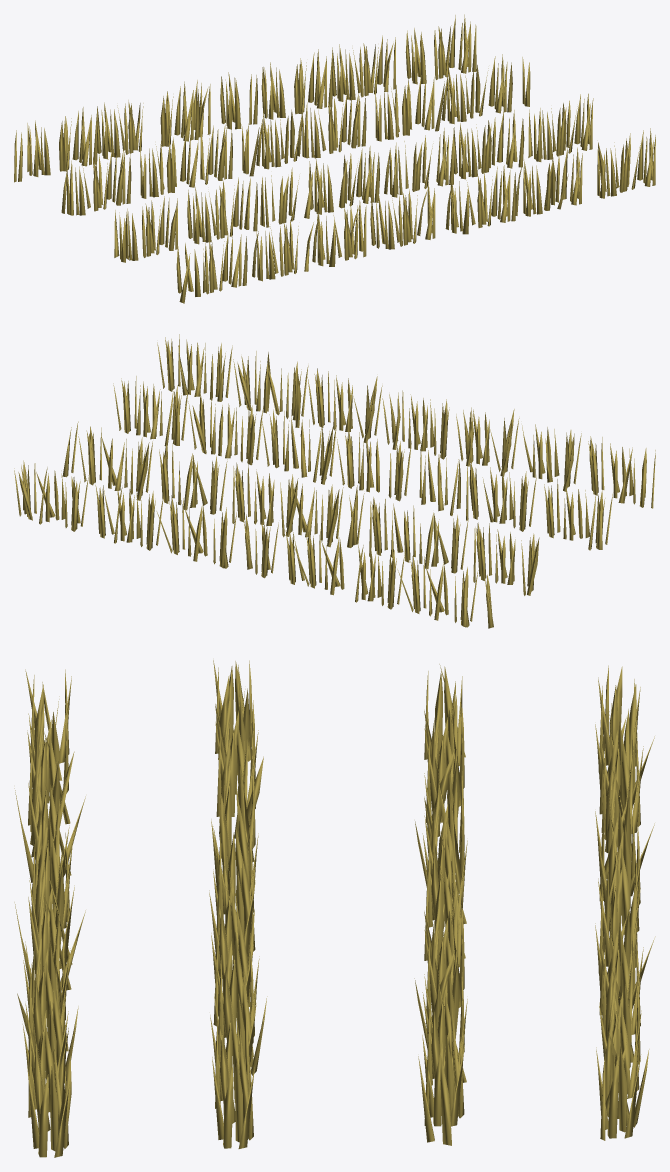
Rendered from Farm_FirstAge_Level2_Wheat.fbx.
The picture shows the model from 3 angles, top to bottom: view 1: azimuth 30°, elevation 25°; view 2: azimuth 150°, elevation 25°; view 3: azimuth 270°, elevation 25°; orthographic projection. The views are drawn at different scales.
Parts seen in each view (by area): view 1: High_Farm_FirstAge_Level2_Wheat, Low_Farm_FirstAge_Level2_Wheat; view 2: High_Farm_FirstAge_Level2_Wheat, Low_Farm_FirstAge_Level2_Wheat; view 3: High_Farm_FirstAge_Level2_Wheat, Low_Farm_FirstAge_Level2_Wheat.
Boxes of the visible parts, left/top/right/bottom form: High_Farm_FirstAge_Level2_Wheat: left=14, top=14, right=655, bottom=303; Low_Farm_FirstAge_Level2_Wheat: left=27, top=32, right=652, bottom=290; High_Farm_FirstAge_Level2_Wheat: left=14, top=334, right=655, bottom=628; Low_Farm_FirstAge_Level2_Wheat: left=23, top=347, right=653, bottom=622; High_Farm_FirstAge_Level2_Wheat: left=14, top=660, right=655, bottom=1157; Low_Farm_FirstAge_Level2_Wheat: left=26, top=687, right=640, bottom=1135.
Size of the model in its own units: 167 by 18.62 by 109.
